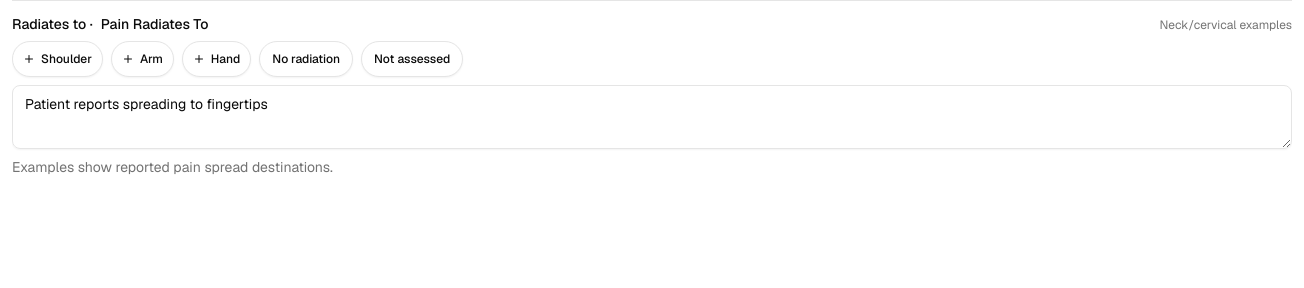
it: ComplaintRadiationField › supports replace/undo while preserving typed text flow
Click the button "Not assessed": click(412, 59) top-left (361, 41), bottom-right (463, 77)
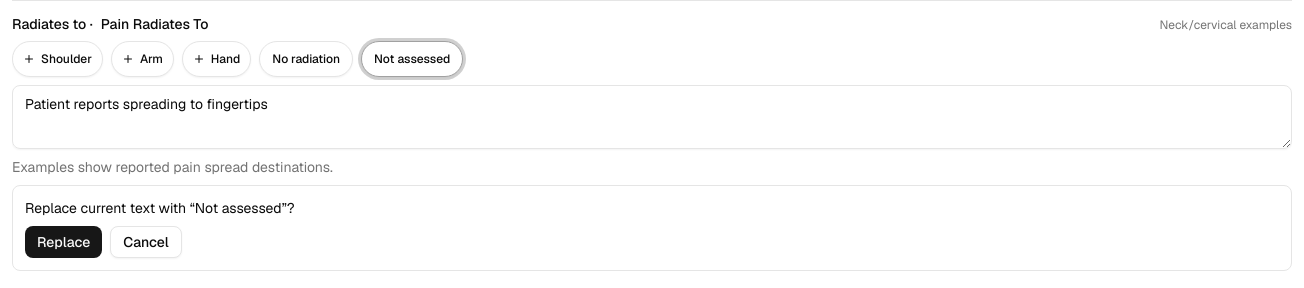
Click the button "Replace": click(64, 242) top-left (25, 226), bottom-right (102, 258)
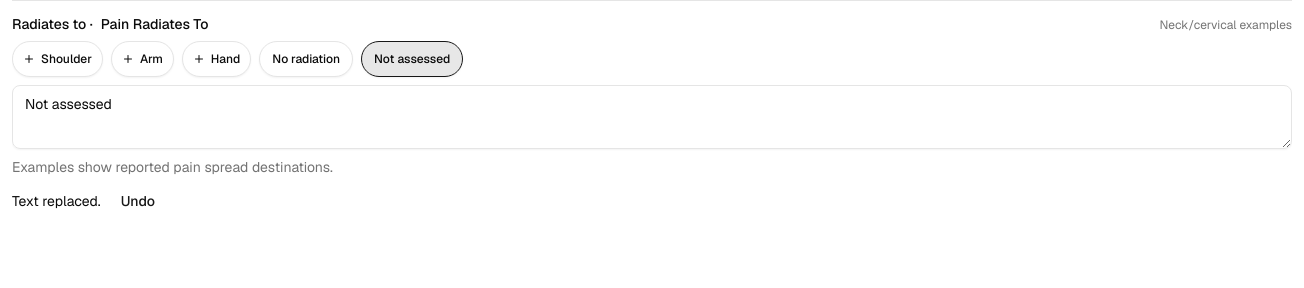
Check: the text box labelled "Pain Radiates To" holds "Not assessed", box top-left (12, 85), bottom-right (1292, 149)
Click the button "Undo": click(138, 201) top-left (109, 185), bottom-right (167, 217)
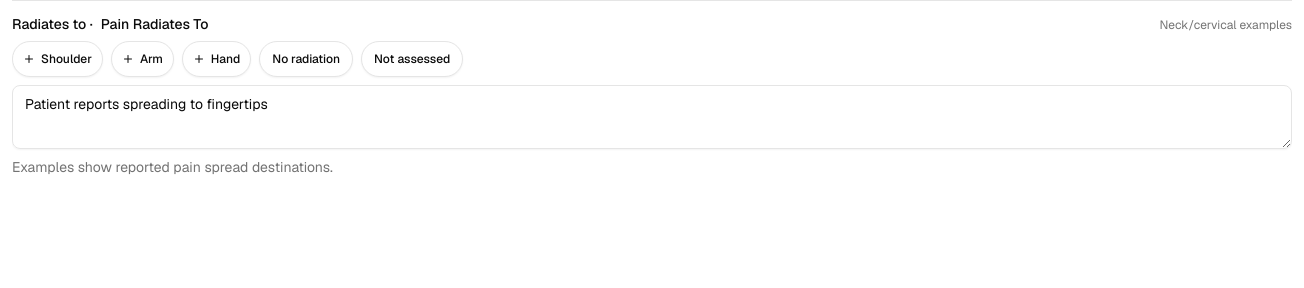
Check: the text box labelled "Pain Radiates To" holds "Patient reports spreading to fingertips", box top-left (12, 85), bottom-right (1292, 149)
